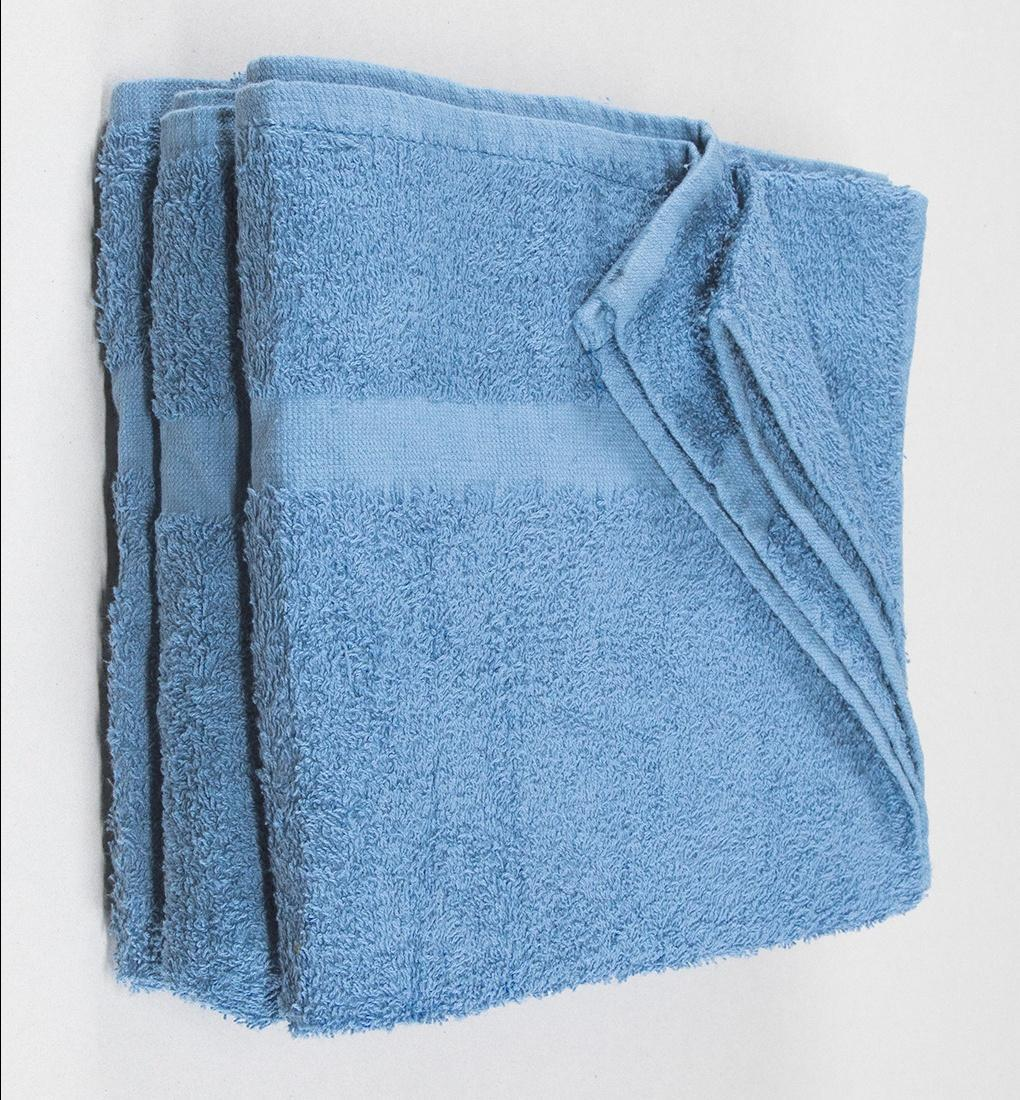towel: (55, 70, 995, 1052)
